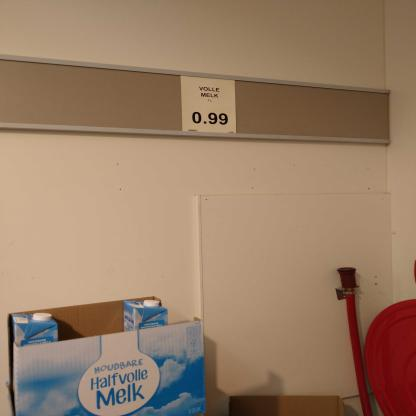prtg: (182, 76, 238, 135)
